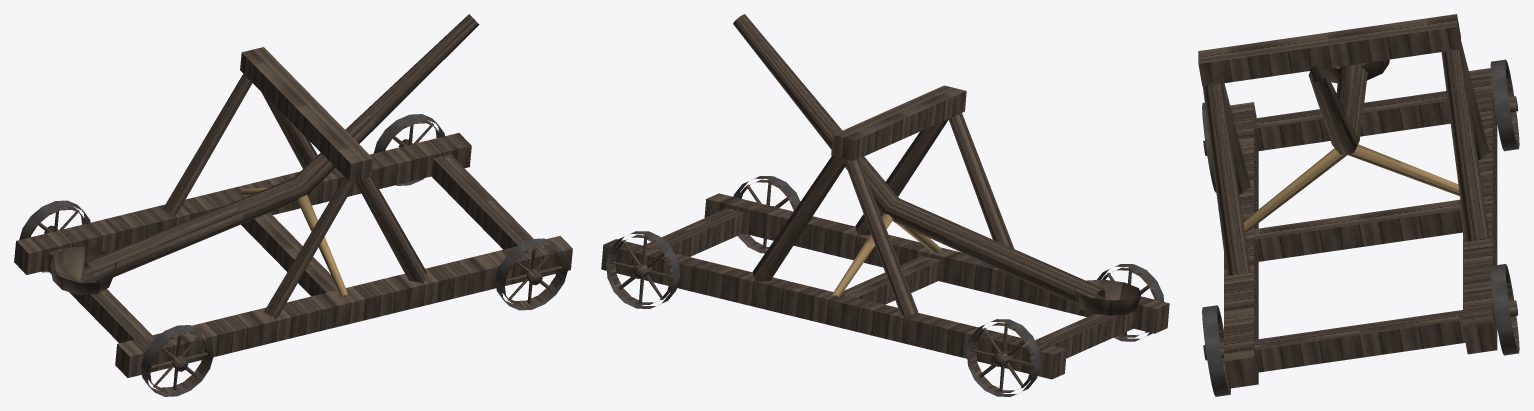
File: Catapult_Burnt_1.gltf
The picture shows the model from 3 angles, left to right: view 1: azimuth 30°, elevation 25°; view 2: azimuth 150°, elevation 25°; view 3: azimuth 270°, elevation 25°; orthographic projection. The views are drawn at different scales.
Parts seen in each view (by area): view 1: Catapult_Burnt_1; view 2: Catapult_Burnt_1; view 3: Catapult_Burnt_1.
Part boxes in pixels (x1,y1,x2,y2): Catapult_Burnt_1: (14,14,572,396); Catapult_Burnt_1: (601,14,1169,396); Catapult_Burnt_1: (1198,14,1519,396).
Size of the model in its own units: 6.28 by 3.47 by 3.19.
Materials: 3 (3 with a texture image).
